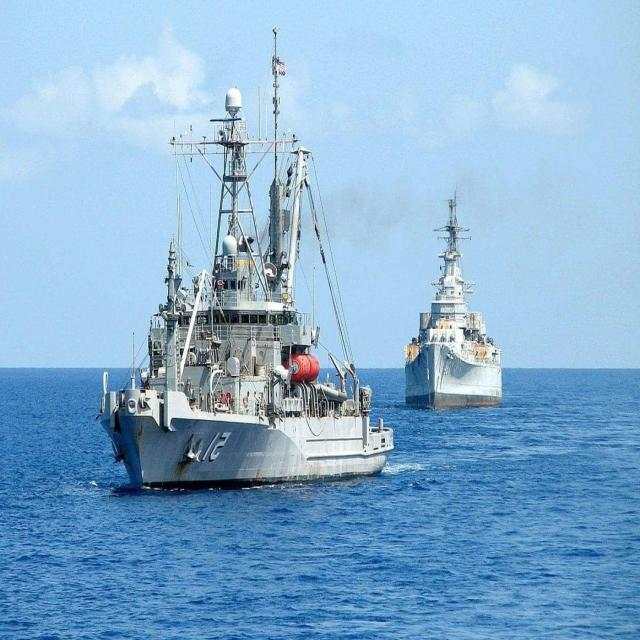navalvessels: (102, 60, 384, 509), (393, 197, 508, 413)
